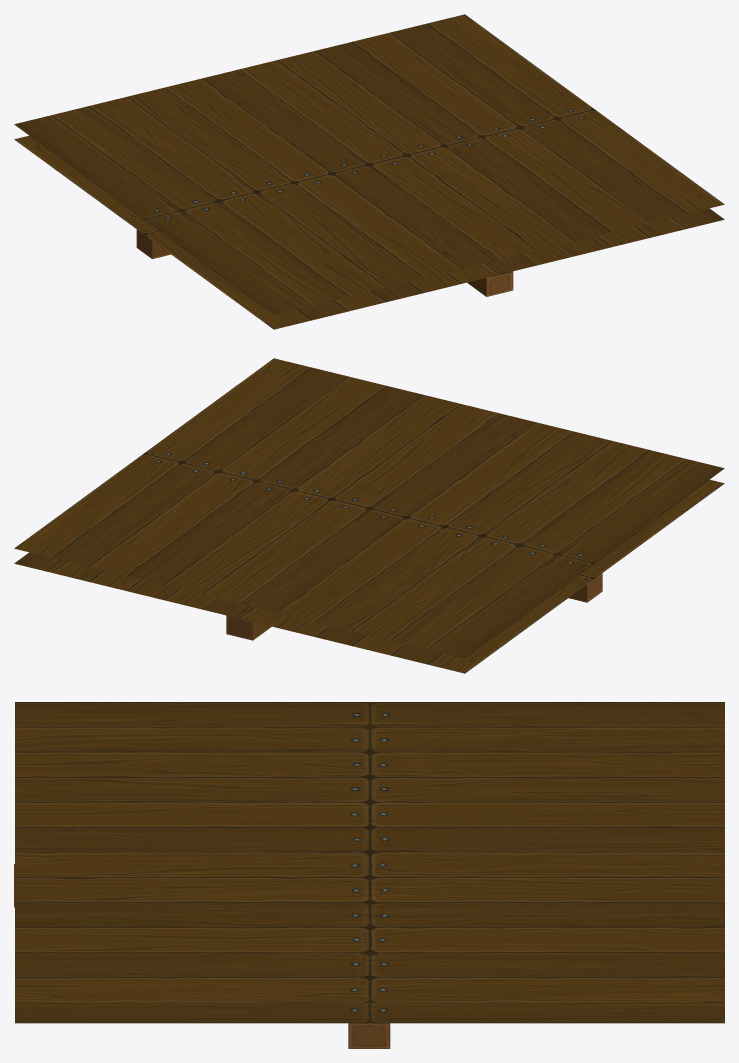
Rendered from SM_Terrace_Floor_Middle.fbx.
The picture shows the model from 3 angles, top to bottom: view 1: azimuth 30°, elevation 25°; view 2: azimuth 150°, elevation 25°; view 3: azimuth 270°, elevation 25°; orthographic projection. The views are drawn at different scales.
Parts seen in each view (by area): view 1: SM_Terrace_Floor_Middle; view 2: SM_Terrace_Floor_Middle; view 3: SM_Terrace_Floor_Middle.
Part boxes in pixels (x1,y1,x2,y2): SM_Terrace_Floor_Middle: (14, 14, 724, 329); SM_Terrace_Floor_Middle: (14, 358, 724, 673); SM_Terrace_Floor_Middle: (14, 702, 724, 1048).
Bounding box in the file's own units: 5.01 × 0.3597 × 5.01.
